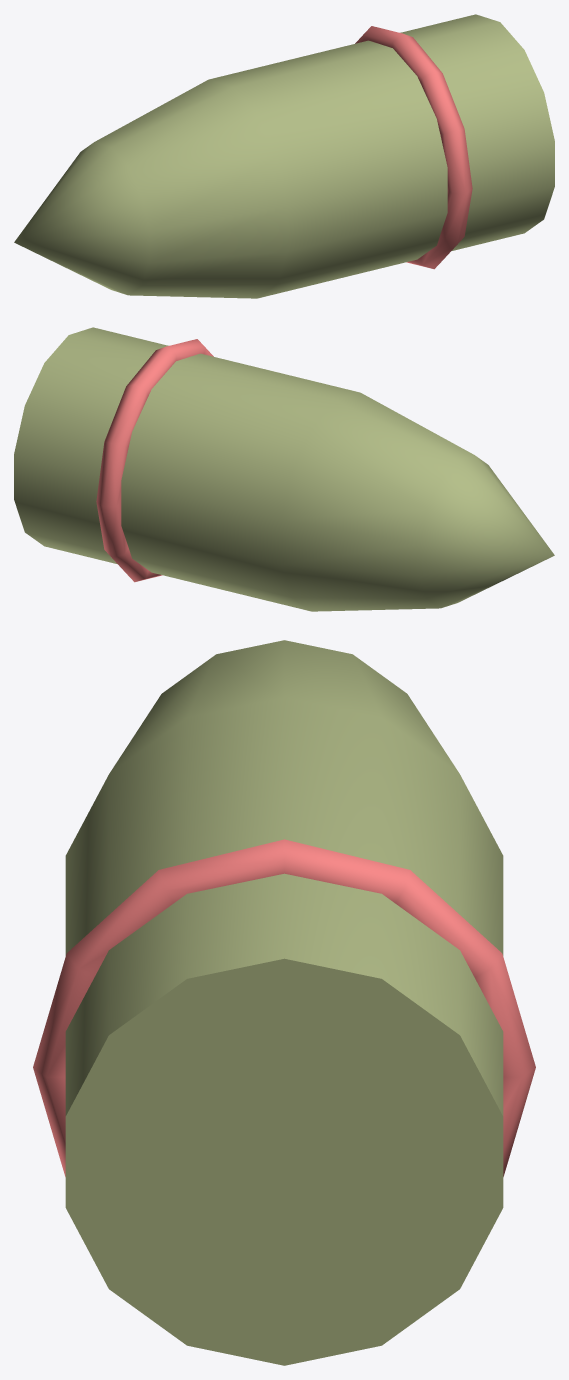
The model's file is ArtilleryStrike.fbx.
3 views of the same model, one above another, from view 1: azimuth 30°, elevation 25°; view 2: azimuth 150°, elevation 25°; view 3: azimuth 270°, elevation 25° (orthographic). The views are drawn at different scales.
Parts seen in each view (by area): view 1: artillery_shell; view 2: artillery_shell; view 3: artillery_shell.
Part boxes in pixels (x1,y1,x2,y2): artillery_shell: [14, 14, 554, 298]; artillery_shell: [14, 327, 554, 611]; artillery_shell: [33, 640, 535, 1365].
Size of the model in its own units: 0.5 by 0.224 by 0.224.
